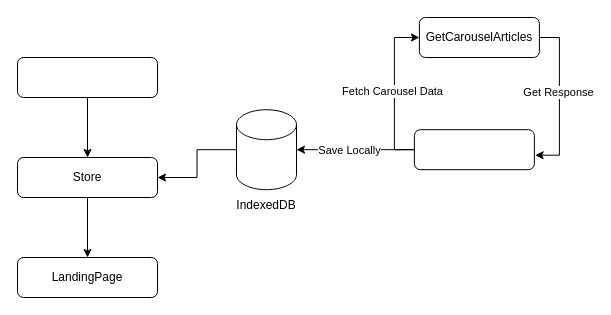
Image size: 611x315. Some labels were removed from this diagram. Here are the shapes that lost their labels. From the top down, the centre of each, then its label:
At point 87,77: "Brands Main Thread".
At point 473,149: "Worker".
